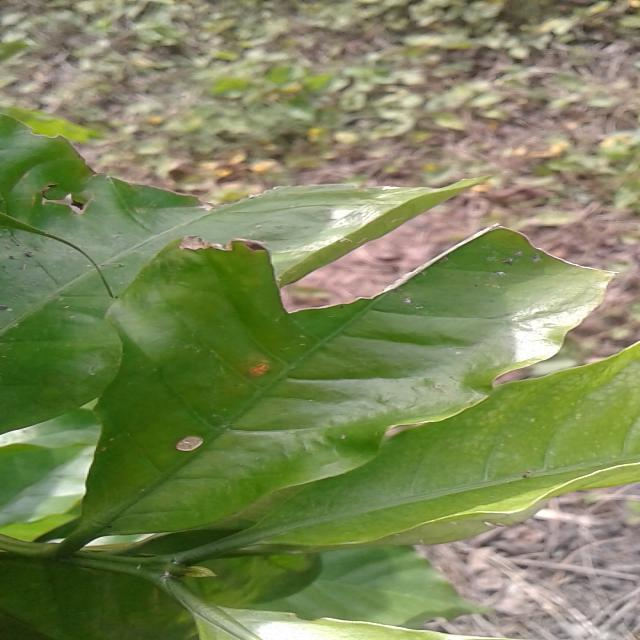Enfermedad-Roya: (95, 227, 613, 537)
